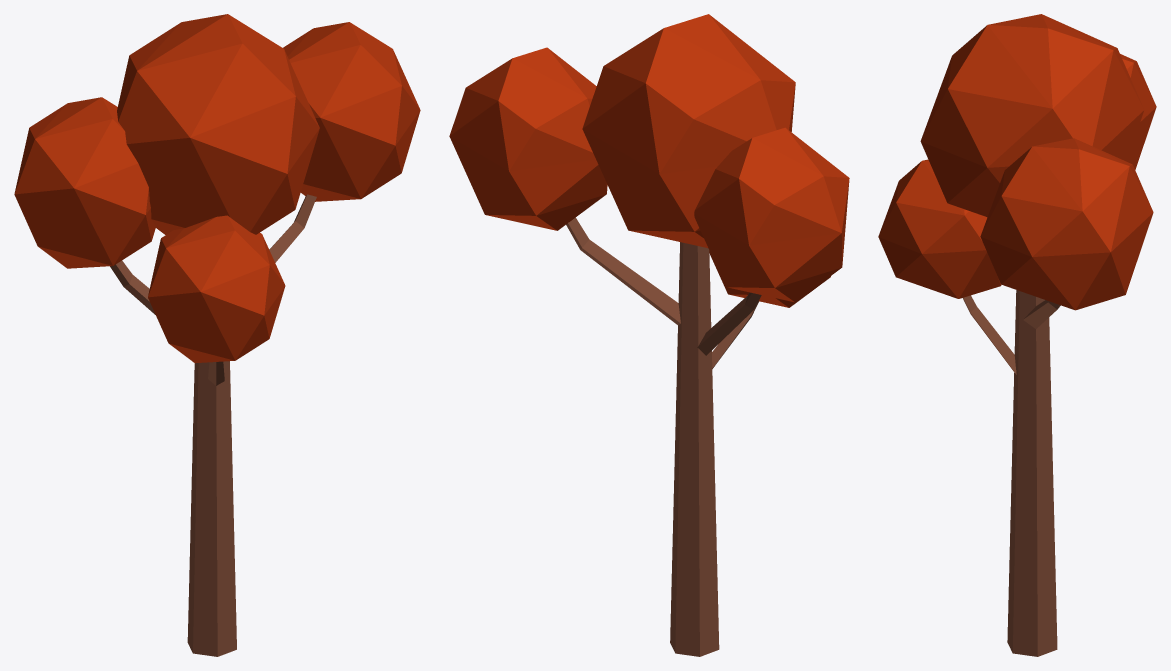
Rendered from Tree_35_summer_red_vc.fbx.
3 views of the same model, side by side, from view 1: azimuth 30°, elevation 25°; view 2: azimuth 150°, elevation 25°; view 3: azimuth 270°, elevation 25° (orthographic).
Parts seen in each view (by area): view 1: Tree_35_summer_red_vc; view 2: Tree_35_summer_red_vc; view 3: Tree_35_summer_red_vc.
Part boxes in pixels (x1,y1,x2,y2): Tree_35_summer_red_vc: [14, 14, 420, 656]; Tree_35_summer_red_vc: [449, 14, 849, 656]; Tree_35_summer_red_vc: [878, 14, 1156, 656].
Bounding box in the file's own units: 423 × 658 × 264.
